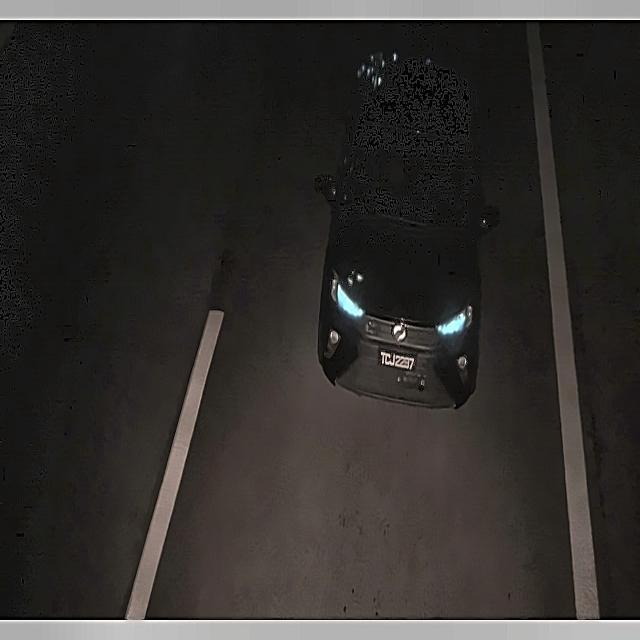car: (373, 346, 423, 377)
